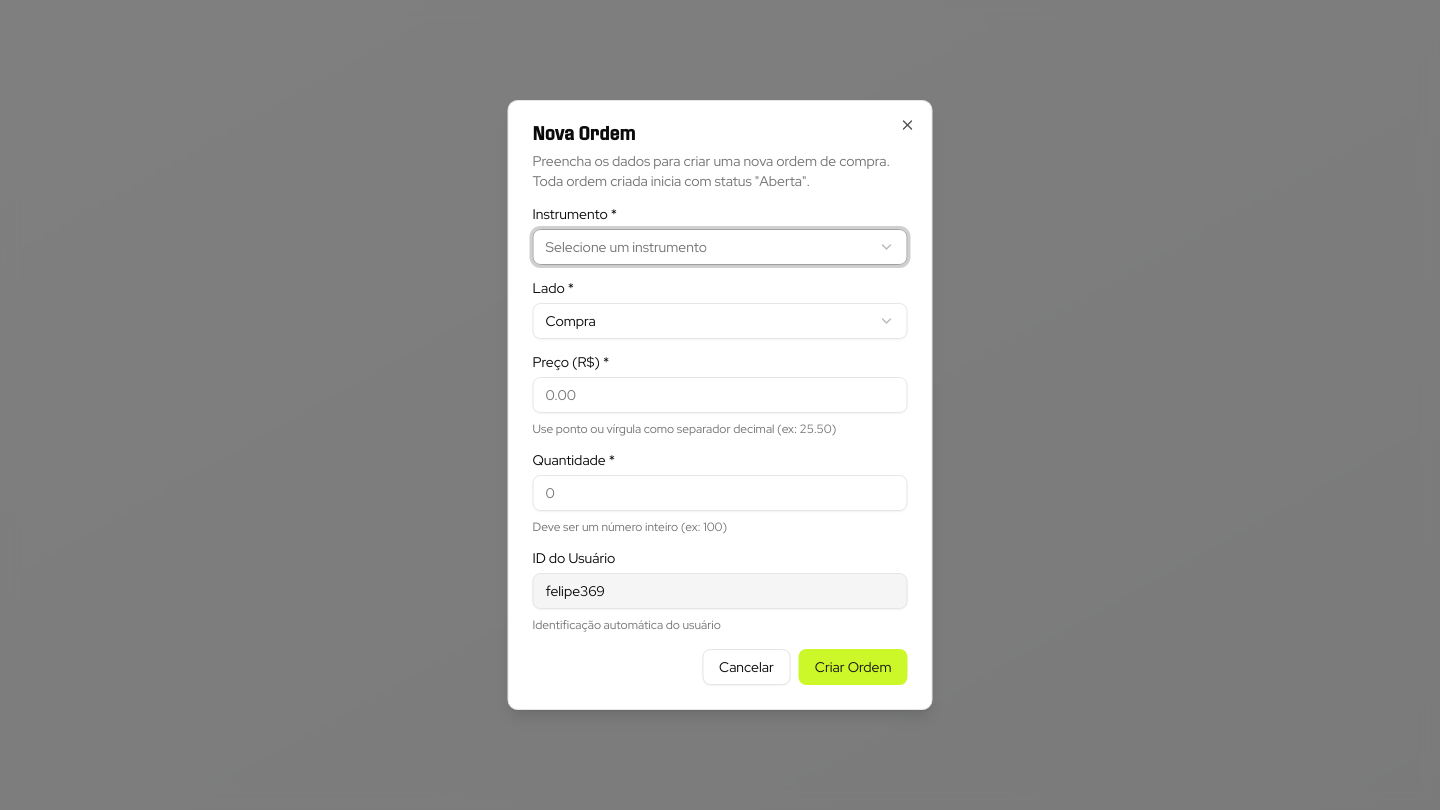
Test: OrderForm Component › deve exibir mensagens de erro de validação para campos obrigatórios
// Tentar submeter com o formulário vazio
Click the button "Criar Ordem": (853, 667) left=799, top=649, right=908, bottom=685
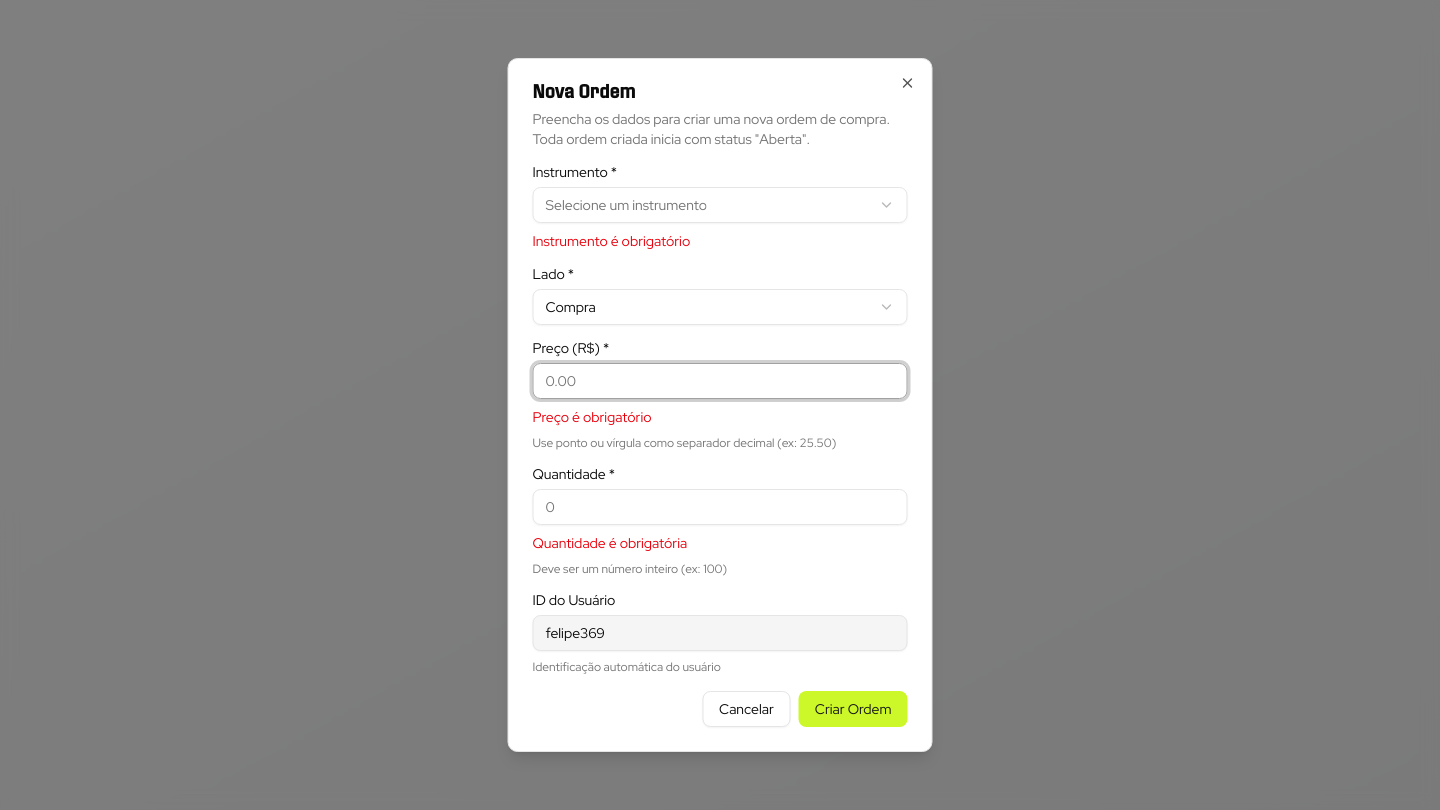
Now the text "Instrumento é obrigatório" is shown, box left=532, top=232, right=690, bottom=250
Now the text "Preço é obrigatório" is shown, box left=532, top=408, right=652, bottom=426
Now the text "Quantidade é obrigatória" is shown, box left=532, top=534, right=687, bottom=552
